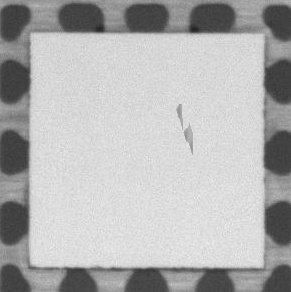DIE_INK: (175, 102, 194, 153)
